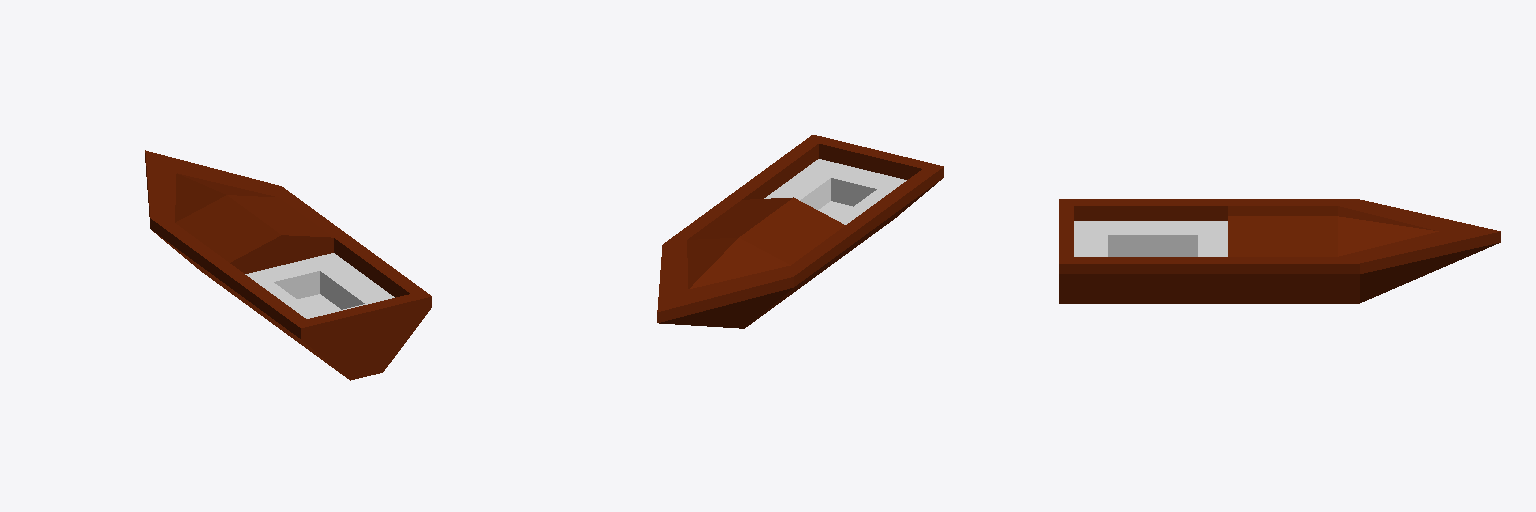
The model's file is a9edbc7c-4ec5-45d8-a165-119bc0a05e40.obj.
3 renders of one model, left to right at view 1: azimuth 30°, elevation 25°; view 2: azimuth 150°, elevation 25°; view 3: azimuth 270°, elevation 25°, orthographic.
Visible parts, largest first — view 1: Mesh1 Model; view 2: Mesh1 Model; view 3: Mesh1 Model.
Part boxes in pixels (x1,y1,x2,y2): Mesh1 Model: (145,150,431,380); Mesh1 Model: (657,135,943,328); Mesh1 Model: (1059,199,1500,303).
Bounding box in the file's own units: 57.6 × 33.23 × 168.